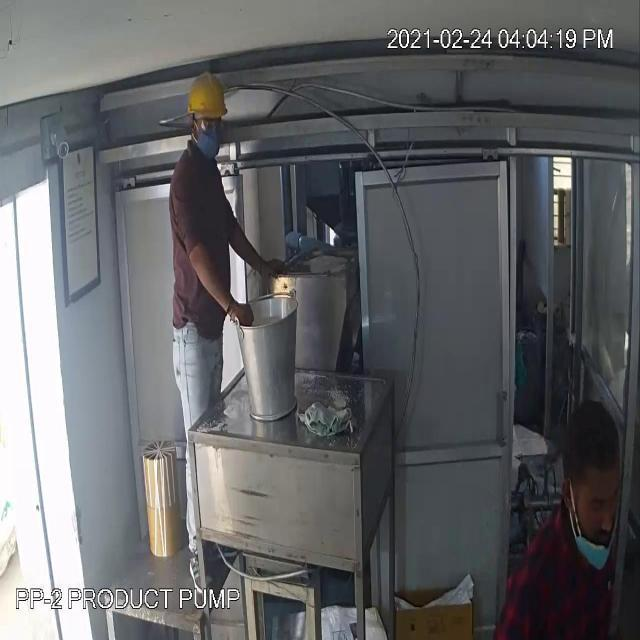hat: (183, 60, 237, 136)
no hat: (547, 384, 628, 532)
